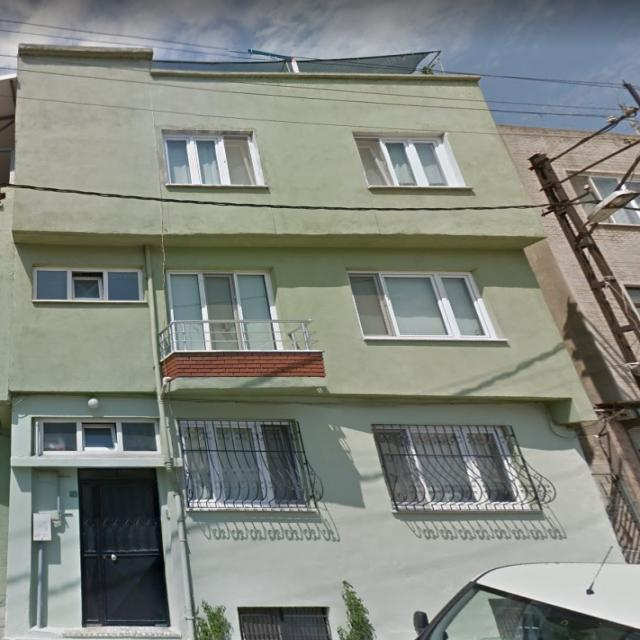Building: (3, 45, 627, 640)
